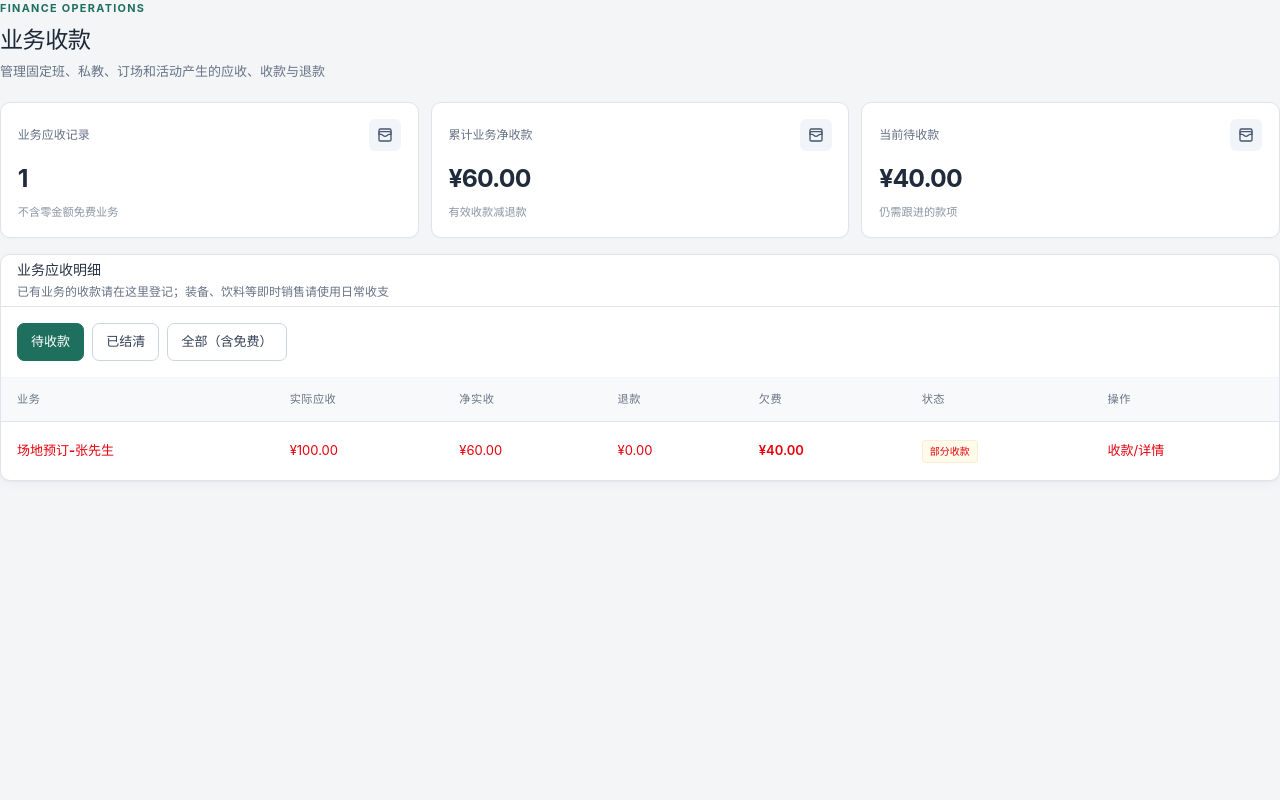
Scenario: shows receivable cash facts and opens the detail
The width and height of the screenshot is (1280, 800).
Expected: the text "¥40.00" is shown 2 times, x1=879 y1=163 x2=962 y2=193; x1=743 y1=422 x2=906 y2=480
Click the button "收款/详情".
click(1136, 451)  # box x1=1108 y1=442 x2=1164 y2=461
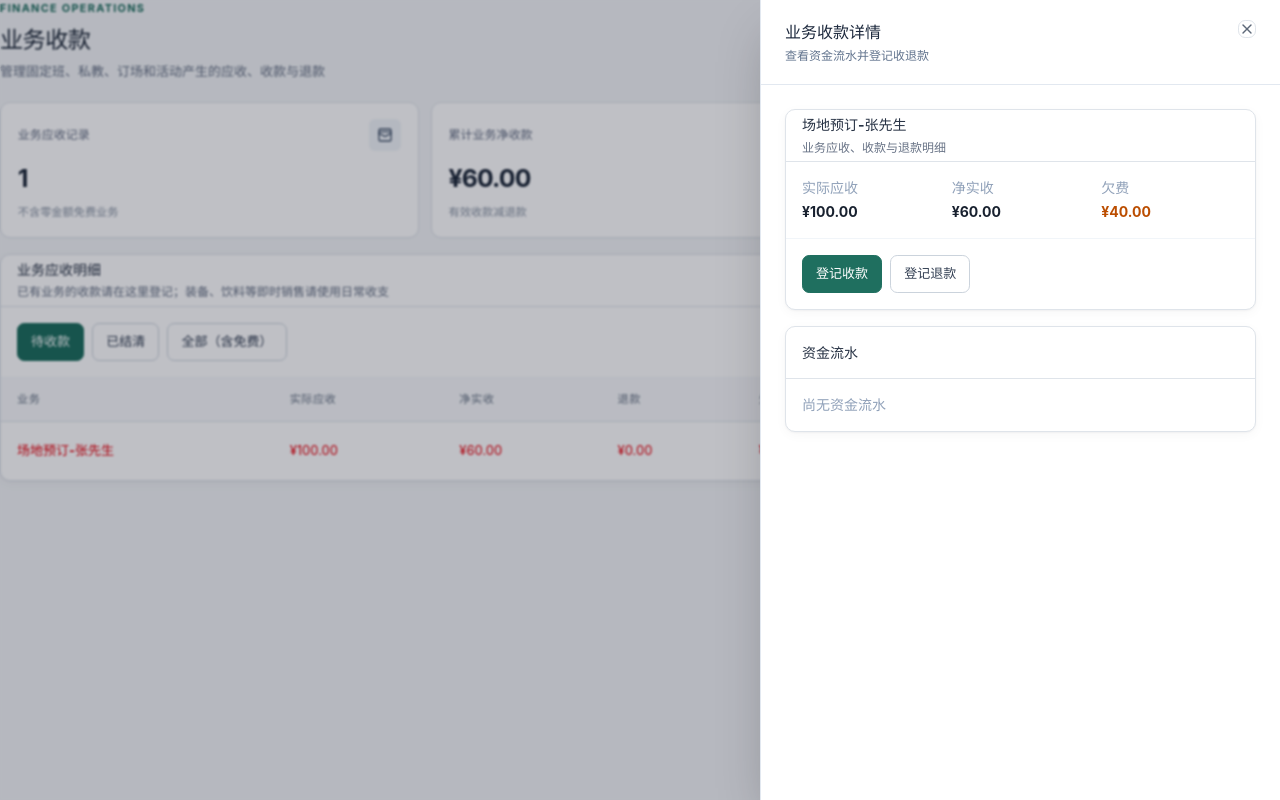
Expected: the text "场地预订-张先生" is shown 2 times, x1=1 y1=422 x2=274 y2=480; x1=802 y1=116 x2=907 y2=133
Expected: the text "业务应收、收款与退款明细" is shown, x1=802 y1=139 x2=946 y2=157
Expected: the button "登记收款" is shown, x1=802 y1=255 x2=882 y2=293
